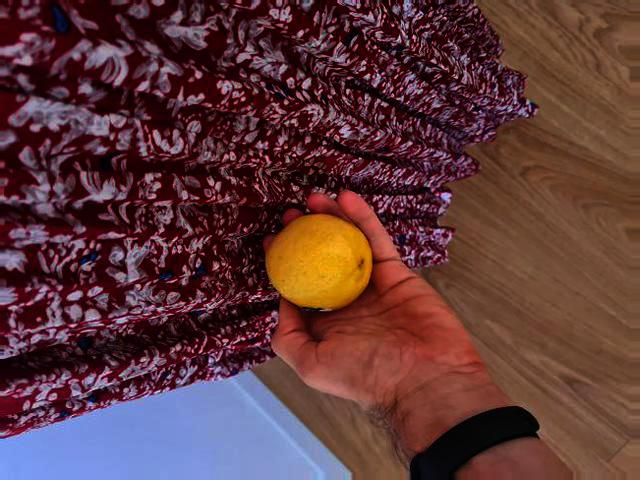lemon: (266, 217, 371, 309)
